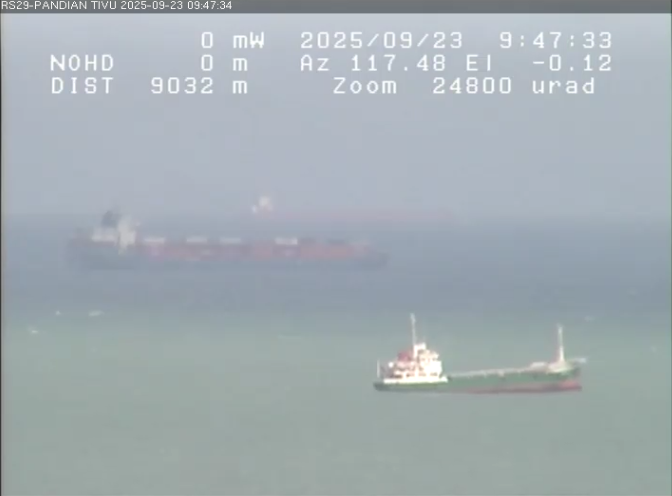CARGO_SHIPS: (59, 192, 412, 294), (366, 301, 637, 421)
